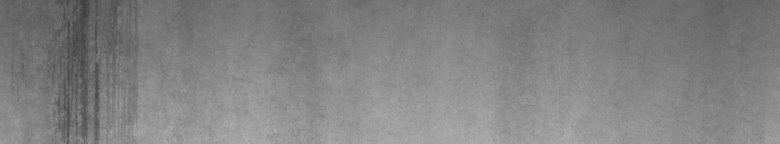ka: (52, 4, 136, 136)
